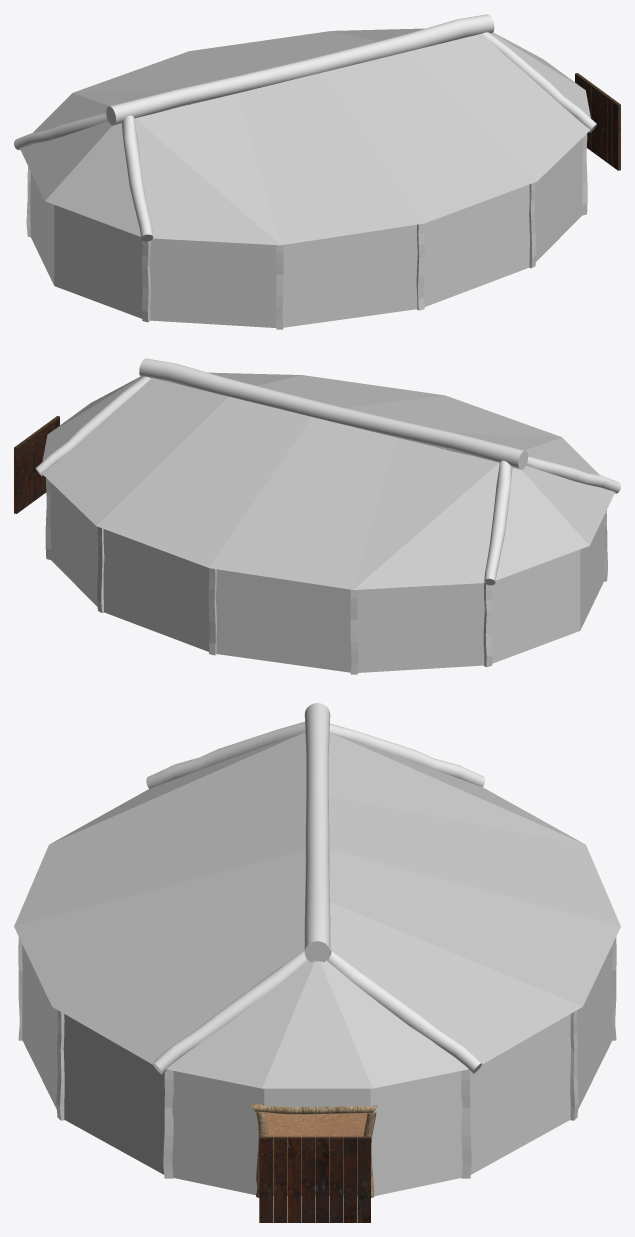
The model's file is Casa Reuniones (S53).fbx.
The picture shows the model from 3 angles, top to bottom: view 1: azimuth 30°, elevation 25°; view 2: azimuth 150°, elevation 25°; view 3: azimuth 270°, elevation 25°; orthographic projection. The views are drawn at different scales.
Visible parts, largest first — view 1: techo paja, paredes, viga central, viga centra soporte, barrotes, Puerta Entrada; view 2: techo paja, paredes, viga central, viga centra soporte, barrotes, Puerta Entrada; view 3: techo paja, paredes, Puerta Entrada, viga centra soporte, viga central, barrotes, suelo, marco puerta.
Boxes of the visible parts, x1,y1,x2,y2 form: techo paja: (20, 28, 590, 245); paredes: (30, 100, 582, 327); viga central: (106, 14, 494, 125); viga centra soporte: (14, 32, 596, 241); barrotes: (26, 103, 587, 329); Puerta Entrada: (575, 73, 620, 170); techo paja: (42, 372, 615, 589); paredes: (50, 444, 604, 672); viga central: (139, 358, 528, 469); viga centra soporte: (35, 376, 620, 585); barrotes: (45, 447, 607, 674); Puerta Entrada: (14, 416, 59, 513); techo paja: (14, 732, 620, 1088); paredes: (22, 944, 612, 1195); Puerta Entrada: (259, 1136, 370, 1222); viga centra soporte: (146, 721, 484, 1074); viga central: (304, 703, 330, 962); barrotes: (18, 937, 616, 1178); suelo: (264, 1112, 367, 1195); marco puerta: (251, 1104, 377, 1197).
Size of the model in its own units: 1112 by 1509 by 437.
